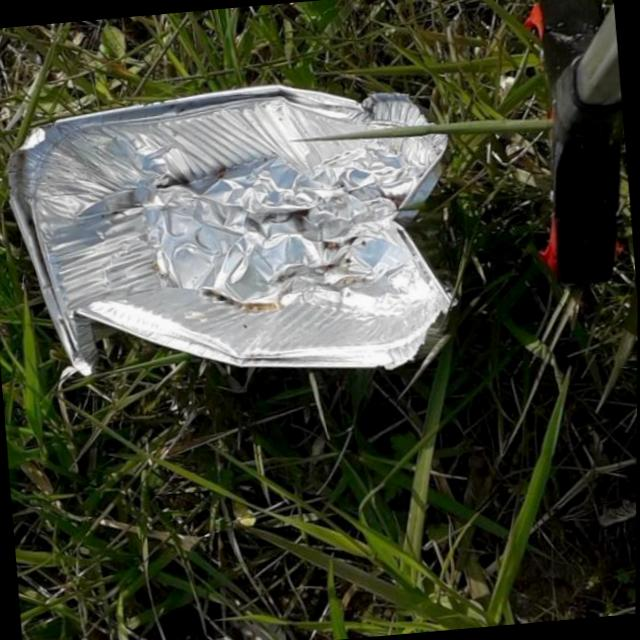Can-Metal: (0, 63, 475, 407)
